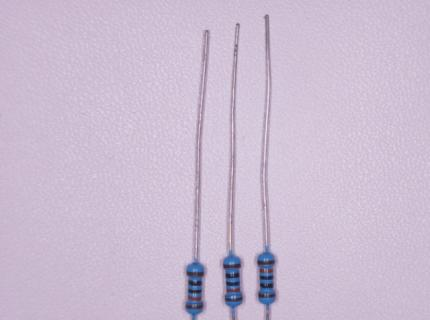Black band: (226, 273, 240, 279), (189, 280, 202, 286), (188, 289, 202, 294), (226, 281, 240, 286), (260, 283, 274, 288), (260, 275, 273, 280)
Brown band: (187, 271, 204, 277), (186, 304, 204, 309), (223, 264, 241, 269), (225, 297, 243, 302), (258, 260, 275, 265), (259, 293, 276, 298)
Orange band: (188, 295, 201, 301), (226, 288, 240, 293), (259, 268, 273, 273)
